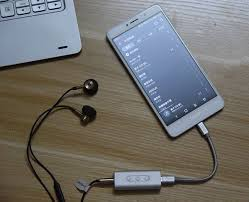mobil: (105, 3, 225, 138)
